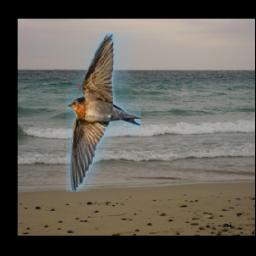Swallow: (67, 32, 142, 192)
